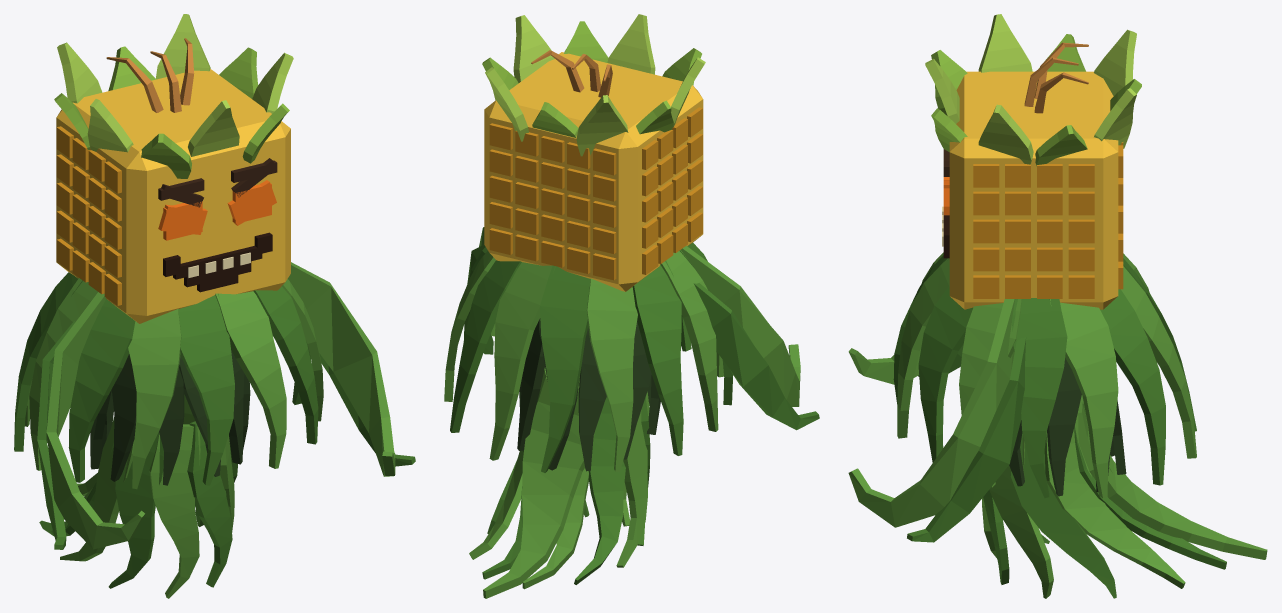
Rendered from w1_secretenemy.fbx.
The picture shows the model from 3 angles, left to right: view 1: azimuth 30°, elevation 25°; view 2: azimuth 150°, elevation 25°; view 3: azimuth 270°, elevation 25°; orthographic projection. The views are drawn at different scales.
Parts seen in each view (by area): view 1: CornWraith.Head, CornWraith.CloakDark, CornWraith.Cloak, CornWraith.Kernels, CornWraith.LeftArm, CornWraith.Crown, CornWraith.Torso, CornWraith.RightArm, CornWraith.RightStrips, CornWraith.CrownDark, CornWraith.RightLeg, CornWraith.LeftLeg (+9 smaller); view 2: CornWraith.Kernels, CornWraith.Head, CornWraith.Cloak, CornWraith.CloakDark, CornWraith.Tail, CornWraith.Crown, CornWraith.Torso, CornWraith.RightWisp, CornWraith.RightStrips, CornWraith.RightLeg, CornWraith.RightArm, CornWraith.CrownDark (+3 smaller); view 3: CornWraith.Head, CornWraith.CloakDark, CornWraith.Cloak, CornWraith.Kernels, CornWraith.LeftArm, CornWraith.LeftStrips, CornWraith.Crown, CornWraith.LeftLeg, CornWraith.LeftWisp, CornWraith.Tail, CornWraith.Torso, CornWraith.CrownDark (+2 smaller).
Boxes of the visible parts, box(x1,y1,x2,y2) form: CornWraith.Head: box(56, 69, 290, 323); CornWraith.CloakDark: box(14, 272, 318, 485); CornWraith.Cloak: box(25, 278, 323, 489); CornWraith.Kernels: box(56, 126, 121, 305); CornWraith.LeftArm: box(287, 262, 395, 476); CornWraith.Crown: box(57, 14, 293, 156); CornWraith.Torso: box(90, 350, 250, 485); CornWraith.RightArm: box(46, 292, 144, 549); CornWraith.RightStrips: box(60, 417, 200, 598); CornWraith.CrownDark: box(54, 46, 289, 178); CornWraith.RightLeg: box(39, 432, 163, 588); CornWraith.LeftLeg: box(187, 421, 237, 587); CornWraith.Kernels: box(489, 107, 702, 280); CornWraith.Head: box(484, 52, 703, 291); CornWraith.Cloak: box(444, 250, 723, 472); CornWraith.CloakDark: box(450, 243, 733, 472); CornWraith.Tail: box(483, 378, 594, 598); CornWraith.Crown: box(485, 14, 705, 156); CornWraith.Torso: box(517, 318, 660, 471); CornWraith.RightWisp: box(693, 283, 819, 430); CornWraith.RightStrips: box(522, 386, 649, 589); CornWraith.RightLeg: box(574, 397, 650, 584); CornWraith.RightArm: box(681, 245, 800, 406); CornWraith.CrownDark: box(482, 21, 701, 137); CornWraith.Head: box(949, 71, 1118, 309); CornWraith.CloakDark: box(893, 255, 1196, 498); CornWraith.Cloak: box(897, 252, 1196, 498); CornWraith.Kernels: box(973, 142, 1123, 298); CornWraith.LeftArm: box(848, 299, 1015, 527); CornWraith.LeftStrips: box(989, 415, 1185, 598); CornWraith.Crown: box(925, 14, 1136, 164); CornWraith.LeftLeg: box(983, 403, 1226, 598); CornWraith.LeftWisp: box(907, 337, 1026, 542); CornWraith.Tail: box(1077, 395, 1267, 559); CornWraith.Torso: box(1009, 358, 1126, 496); CornWraith.CrownDark: box(931, 34, 1141, 166).
Bounding box in the file's own units: 3.84 × 5.28 × 3.88.
